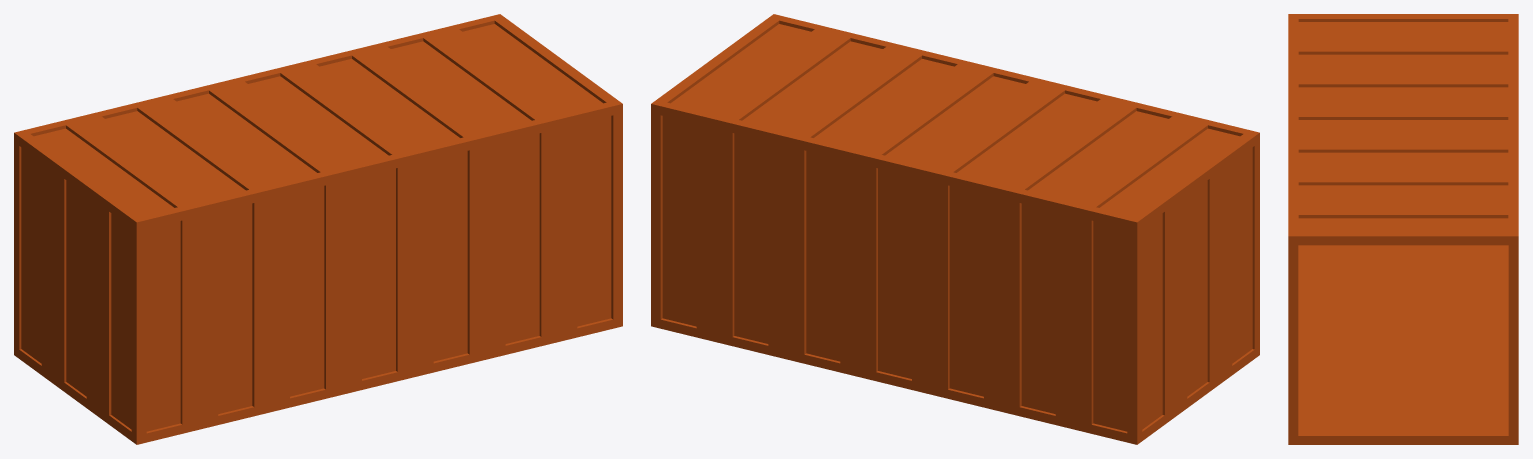
3 renders of one model, left to right at view 1: azimuth 30°, elevation 25°; view 2: azimuth 150°, elevation 25°; view 3: azimuth 270°, elevation 25°, orthographic. The views are drawn at different scales.
Visible parts, largest first — view 1: D-1; view 2: D-1; view 3: D-1.
Boxes of the visible parts, bbox=[...] form: D-1: bbox=[14, 14, 622, 444]; D-1: bbox=[651, 14, 1259, 444]; D-1: bbox=[1288, 14, 1518, 444].
Size of the model in its own units: 2118 by 926 by 926.
